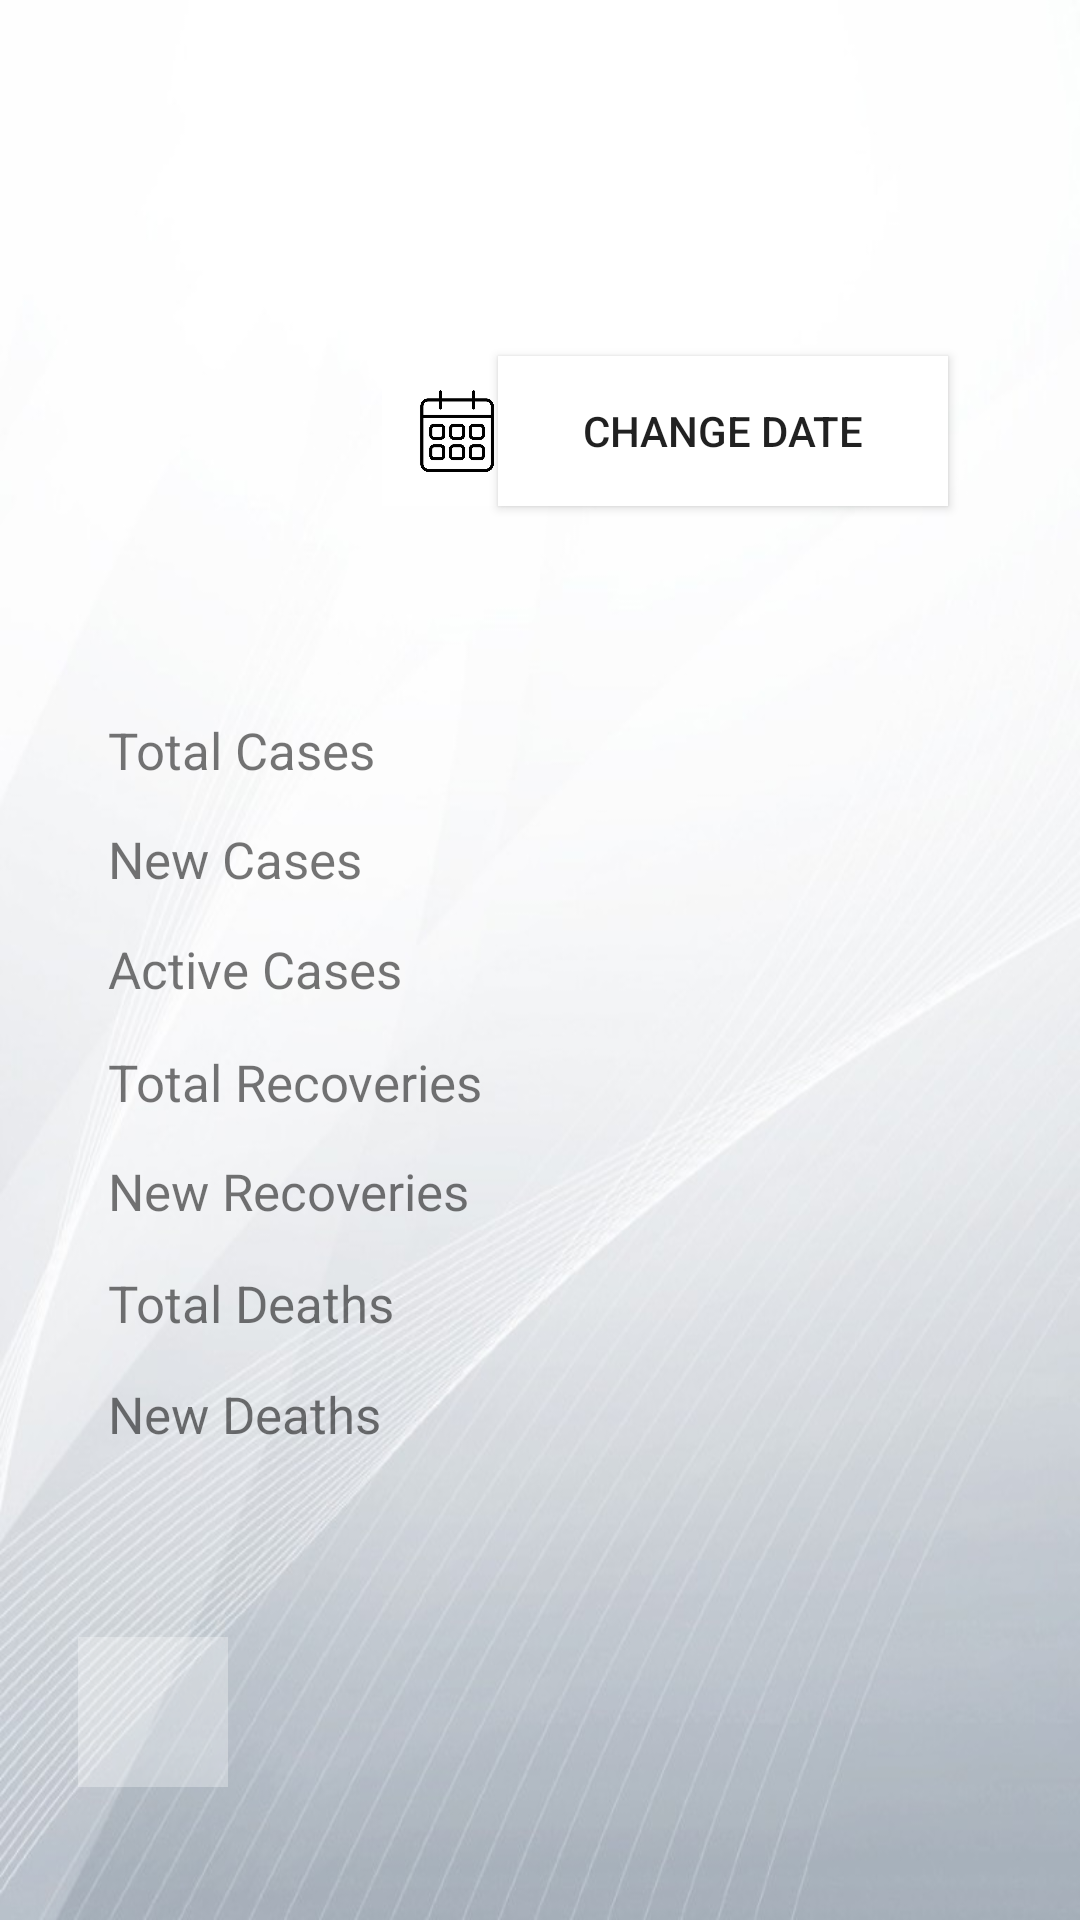

Where icons sit on this 1080×1920 app screen, as [x1, y1, x2, y2]:
calendar: [420, 390, 494, 472]
